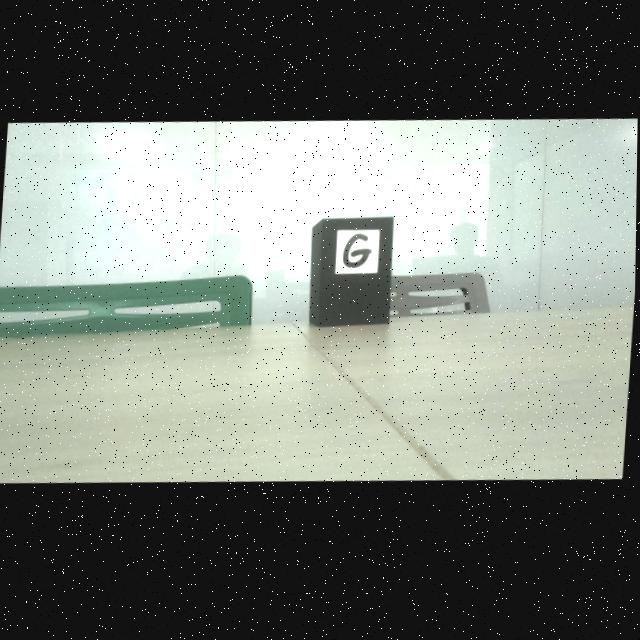G: (344, 238, 371, 272)
